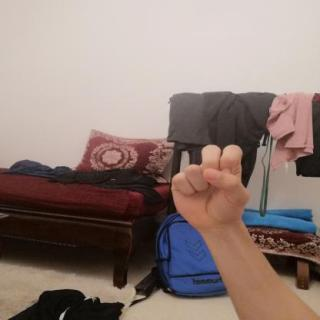QAAF: (160, 138, 259, 237)
